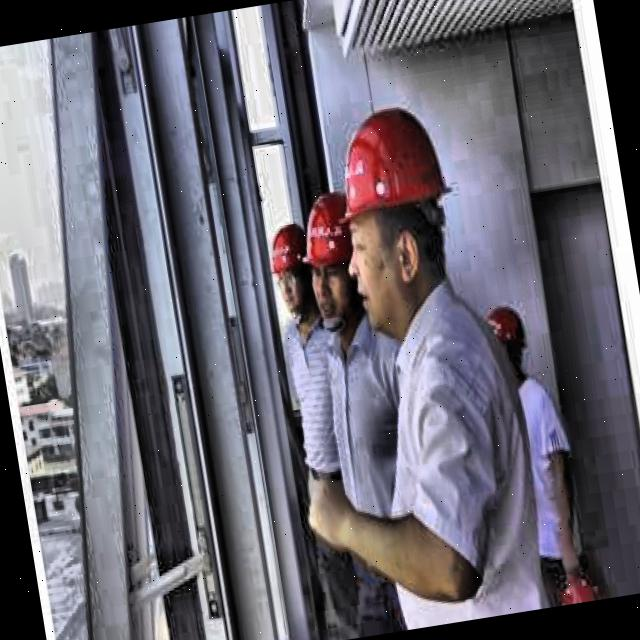helmet: (326, 92, 468, 336), (302, 199, 366, 327), (262, 218, 320, 326), (482, 294, 539, 388)
